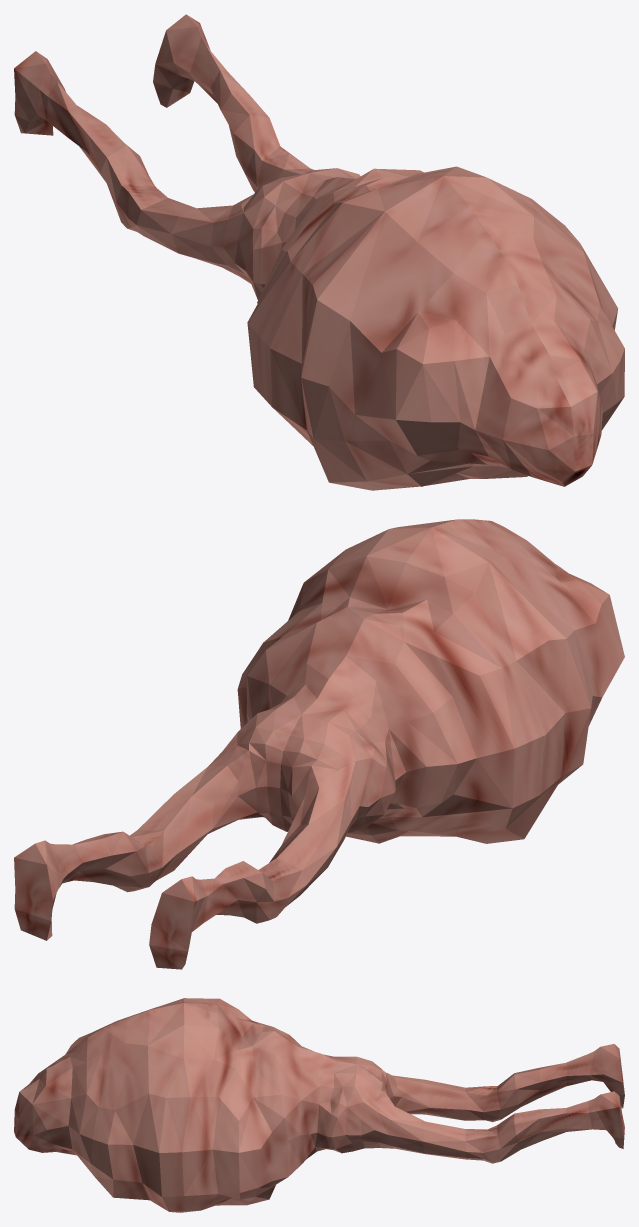
The model's file is fleshbeast_wtf.obj.
3 renders of one model, top to bottom at view 1: azimuth 30°, elevation 25°; view 2: azimuth 150°, elevation 25°; view 3: azimuth 270°, elevation 25°, orthographic. The views are drawn at different scales.
Visible parts, largest first — view 1: group1; view 2: group1; view 3: group1.
Boxes of the visible parts, bbox=[...] form: group1: bbox=[14, 14, 624, 490]; group1: bbox=[14, 519, 624, 969]; group1: bbox=[14, 998, 624, 1212].
Size of the model in its own units: 250 by 236 by 660.
